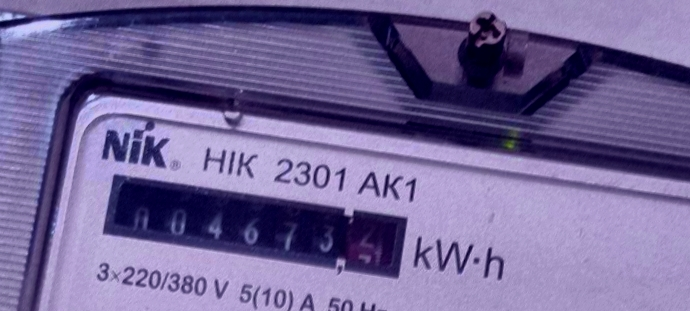0: (167, 204, 190, 238), (130, 201, 154, 233)
2: (356, 217, 381, 251)
3: (316, 220, 338, 256)
4: (205, 206, 228, 243)
6: (239, 211, 265, 248)
7: (276, 217, 303, 257)
screen: (97, 167, 414, 289)
